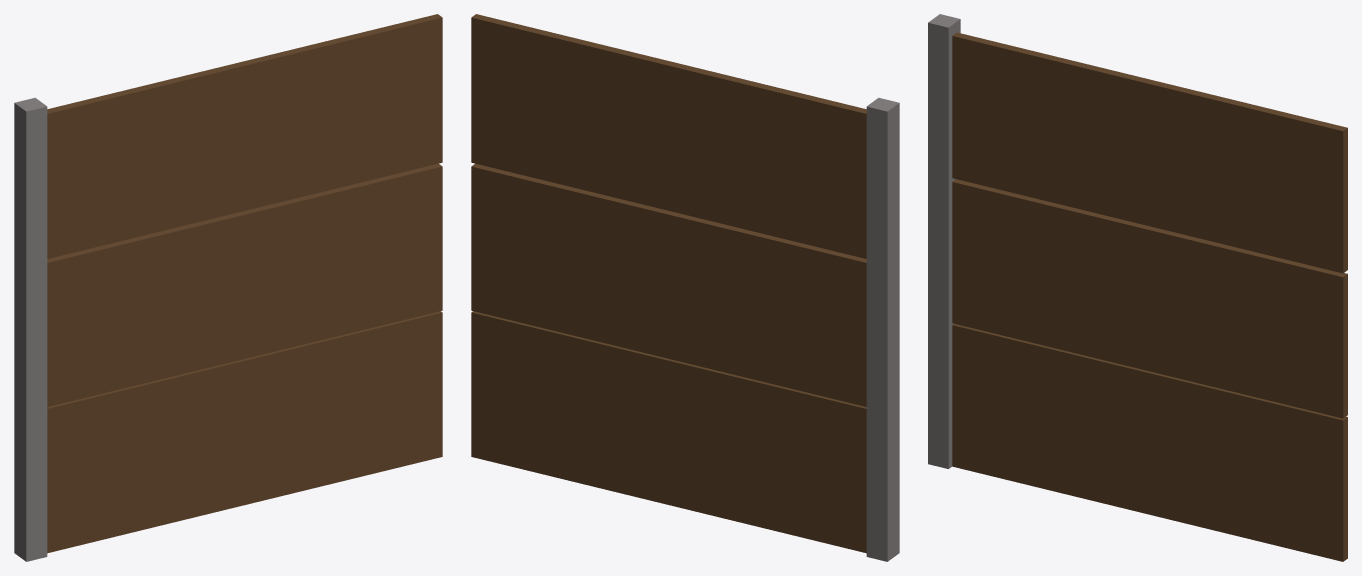
The model's file is props_fence-big.fbx.
3 renders of one model, left to right at view 1: azimuth 30°, elevation 25°; view 2: azimuth 150°, elevation 25°; view 3: azimuth 330°, elevation 25°, orthographic. The views are drawn at different scales.
Parts seen in each view (by area): view 1: props_fence_big; view 2: props_fence_big; view 3: props_fence_big.
Boxes of the visible parts, box(x1,y1,x2,y2) form: props_fence_big: box(14, 14, 442, 561); props_fence_big: box(471, 14, 899, 561); props_fence_big: box(928, 14, 1347, 561).
Bounding box in the file's own units: 195 × 200 × 9.76.
